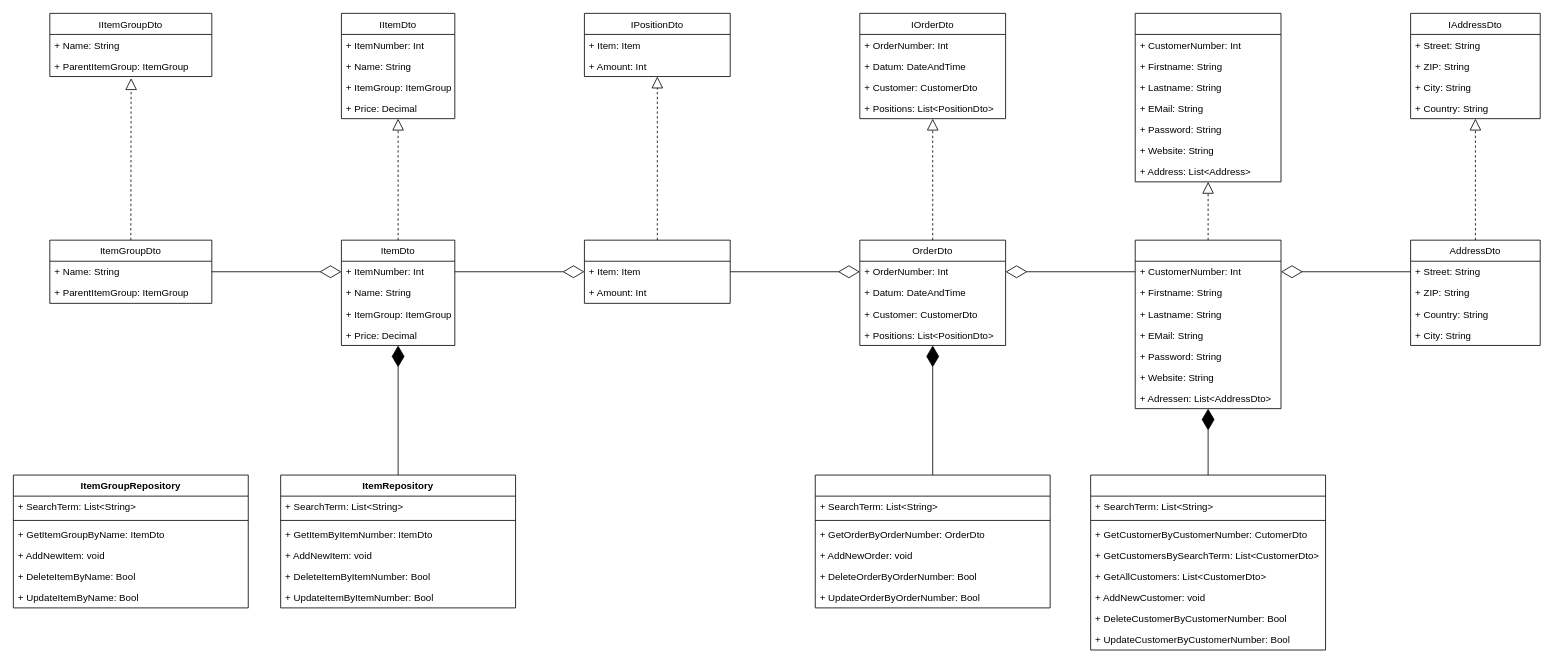
This 1554x663 diagram has some shape labels left out. The shapes that lost their labels are listed below. From the top down, each one's box as (x1, y1, x2, y2) in pixels, then its label:
(1134, 13, 1281, 182): ICustomerDto
(584, 239, 730, 303): PositionDto
(1134, 239, 1281, 409): CustomerDto
(814, 474, 1050, 608): OrderRepository
(1090, 474, 1326, 650): CustomerRepository
